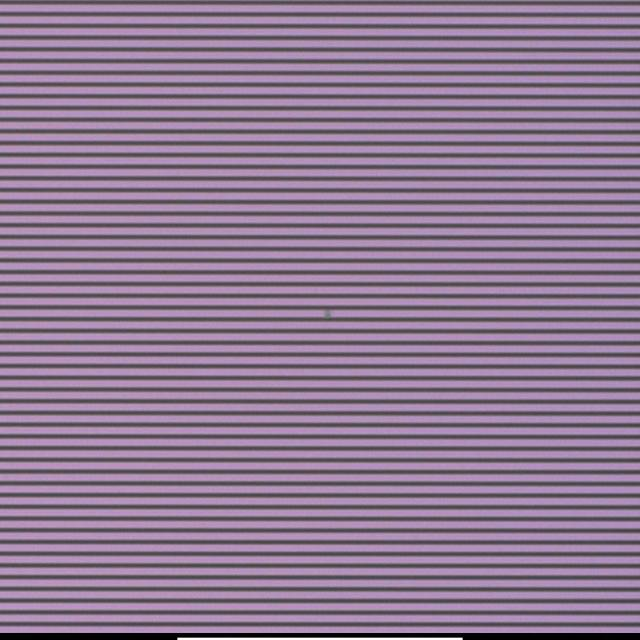nonvisual: (321, 305, 335, 323)
